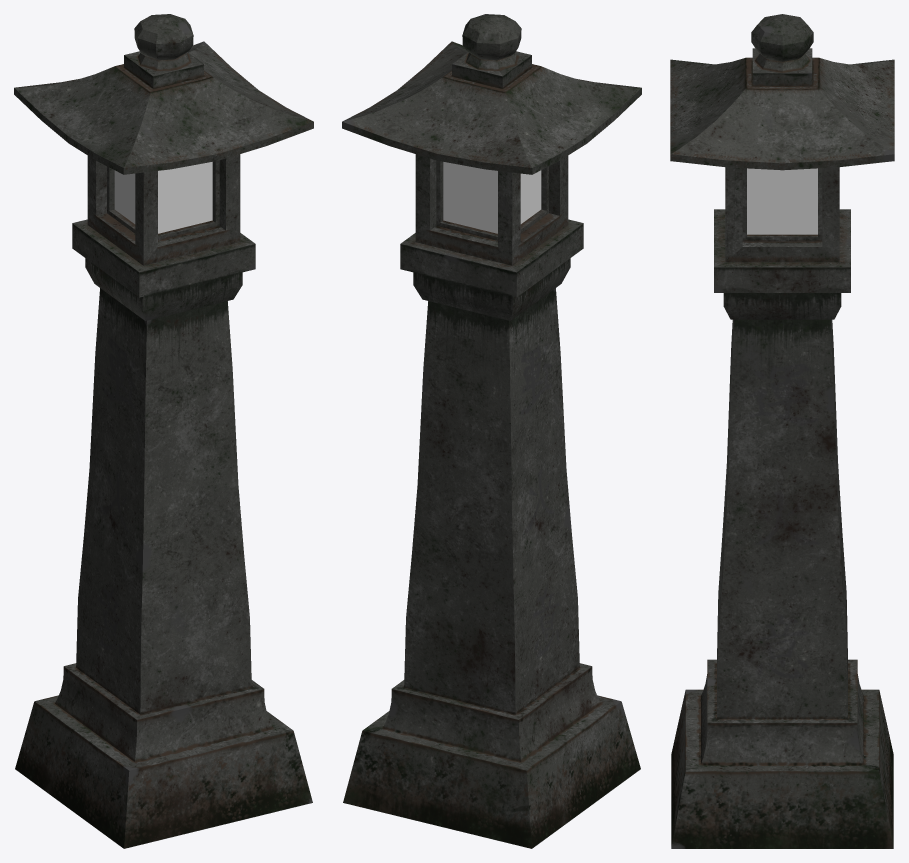
The model's file is Japanese-Lantern.fbx.
The picture shows the model from 3 angles, left to right: view 1: azimuth 30°, elevation 25°; view 2: azimuth 150°, elevation 25°; view 3: azimuth 270°, elevation 25°; orthographic projection. The views are drawn at different scales.
Visible parts, largest first — view 1: Cube.001; view 2: Cube.001; view 3: Cube.001.
Boxes of the visible parts, left/top/right/bottom form: Cube.001: left=14, top=14, right=313, bottom=848; Cube.001: left=342, top=14, right=641, bottom=848; Cube.001: left=670, top=14, right=894, bottom=848.
Size of the model in its own units: 38.39 by 148 by 38.39.
2 materials, 1 textured.
